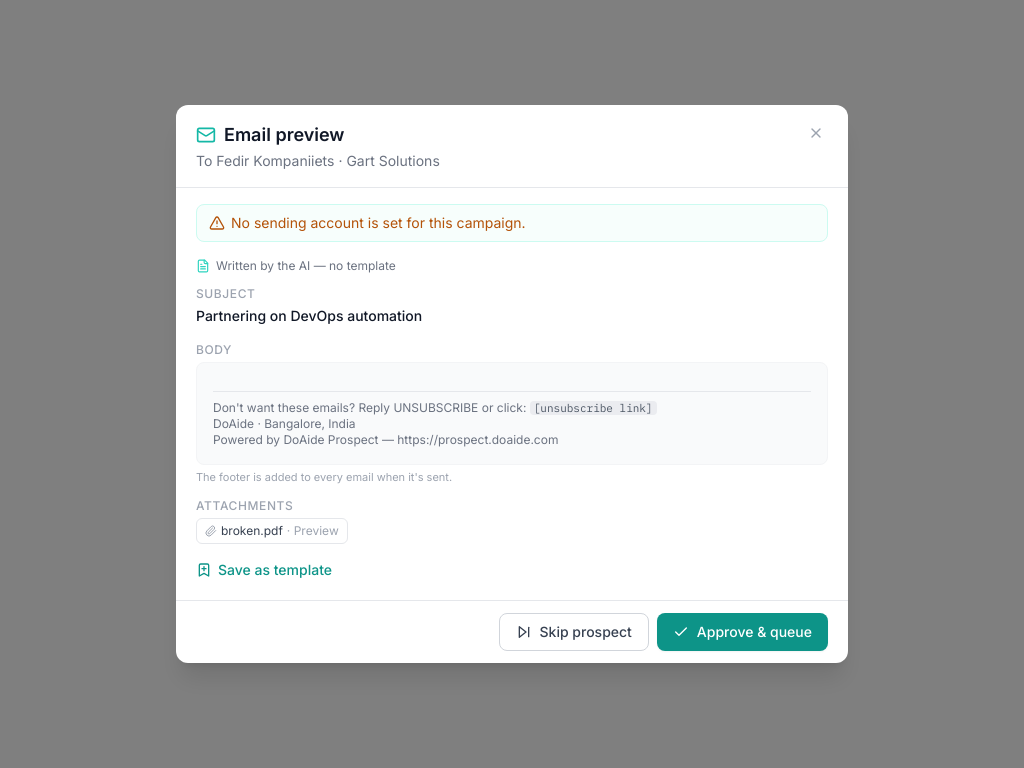
Test case: EmailPreviewModal › says so when a PDF cannot be displayed
Click the button "Preview broken.pdf": click(272, 531) [196, 518, 348, 544]
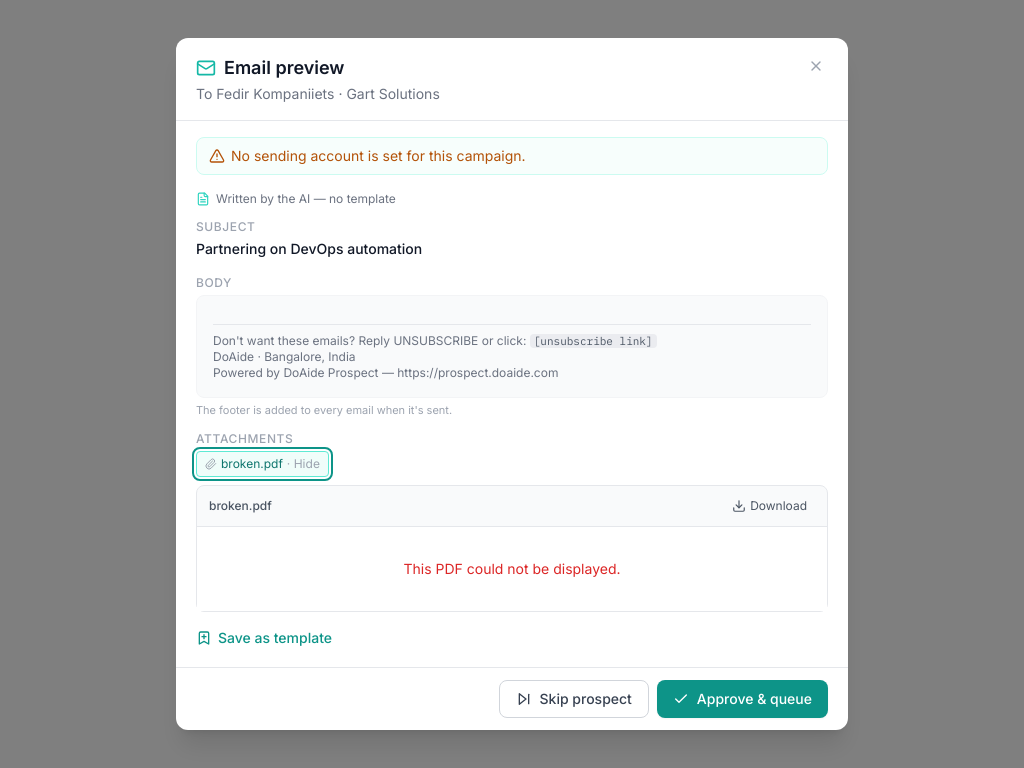
Expected: the text "This PDF could not be displayed." is shown, [404, 560, 620, 577]
